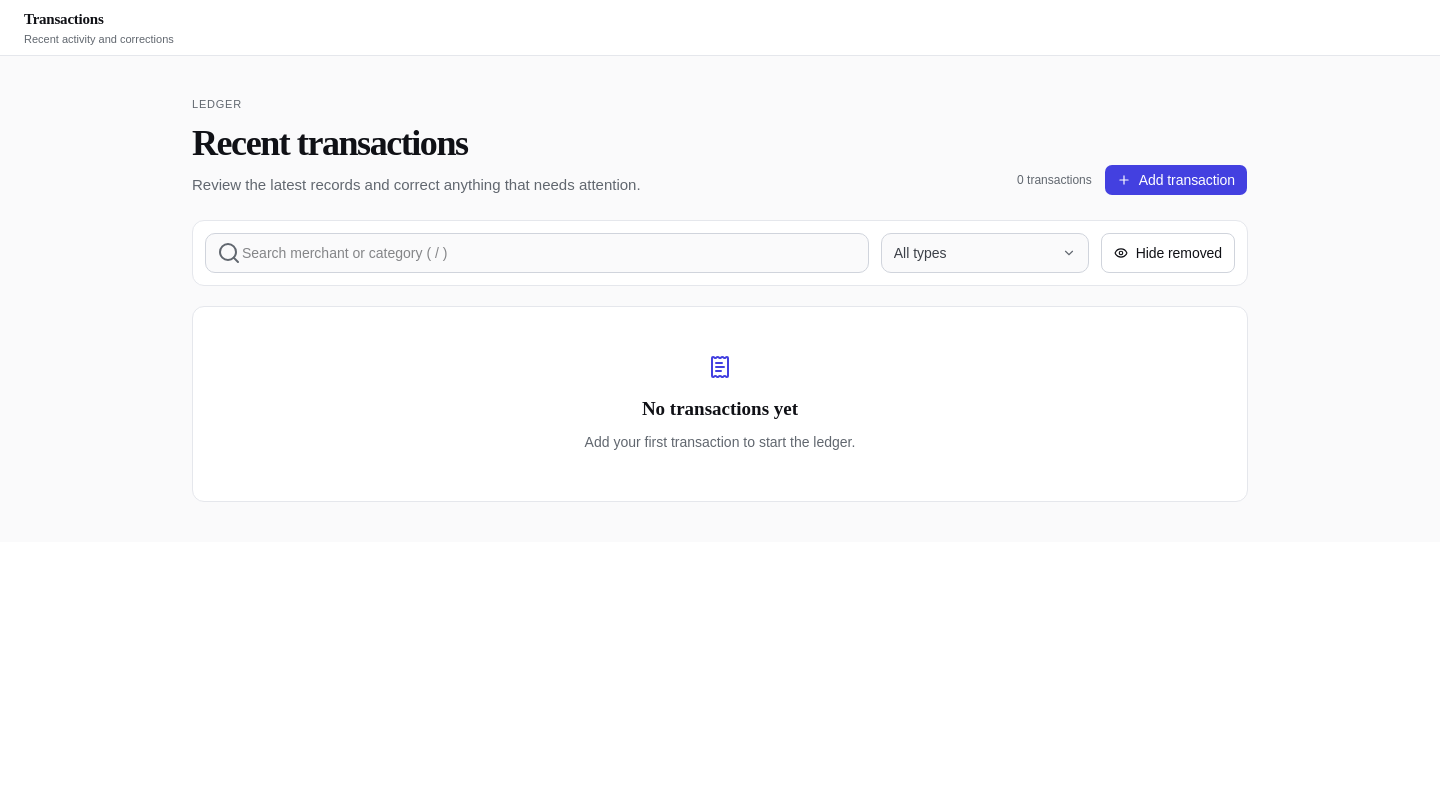
Test: Add transaction URL state › sets ?new=1 when the Add transaction button opens the drawer
Click the button "Add transaction" at {"x": 1176, "y": 180}, box [1104, 164, 1248, 196]
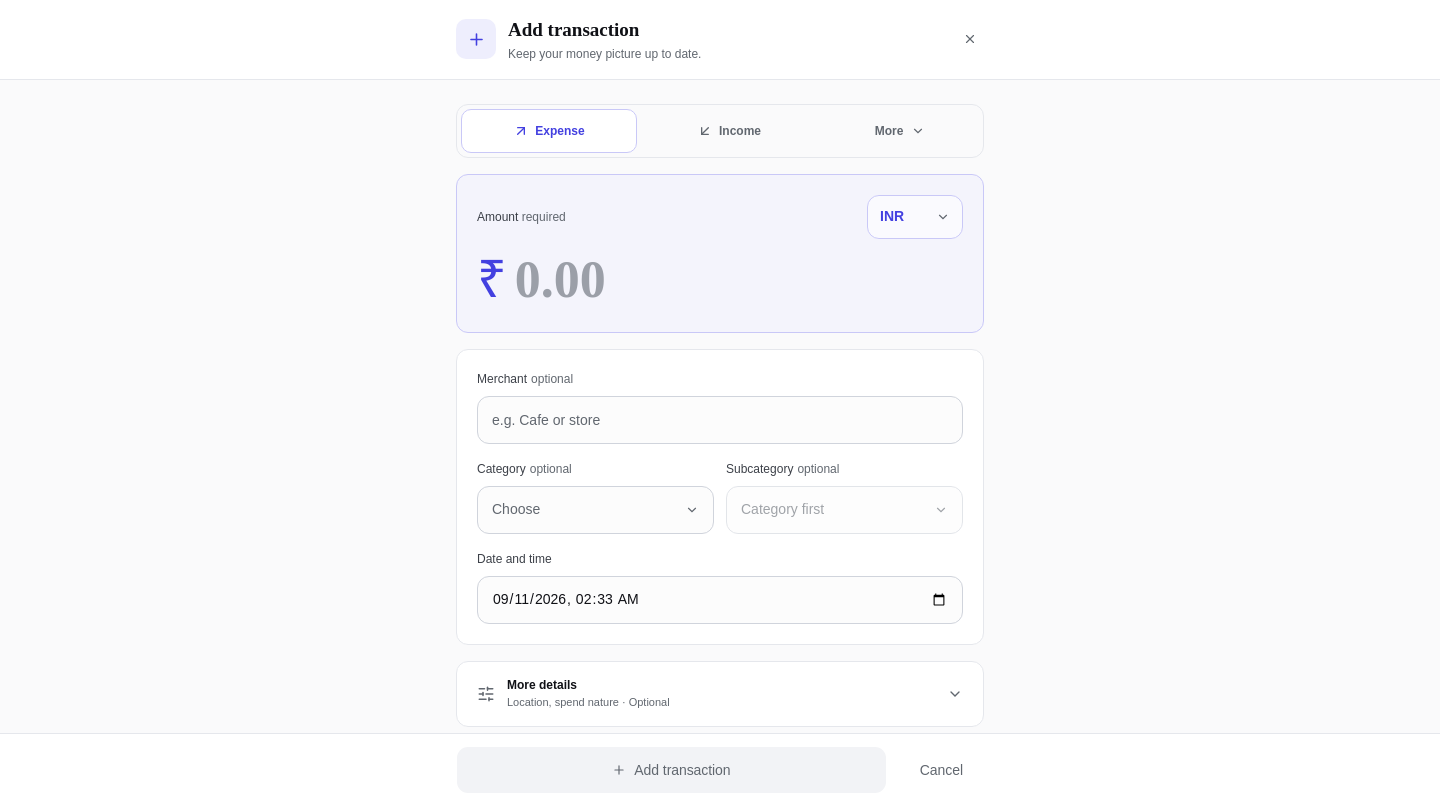
Result: the heading "Add transaction" is shown at [508, 19, 639, 40]
